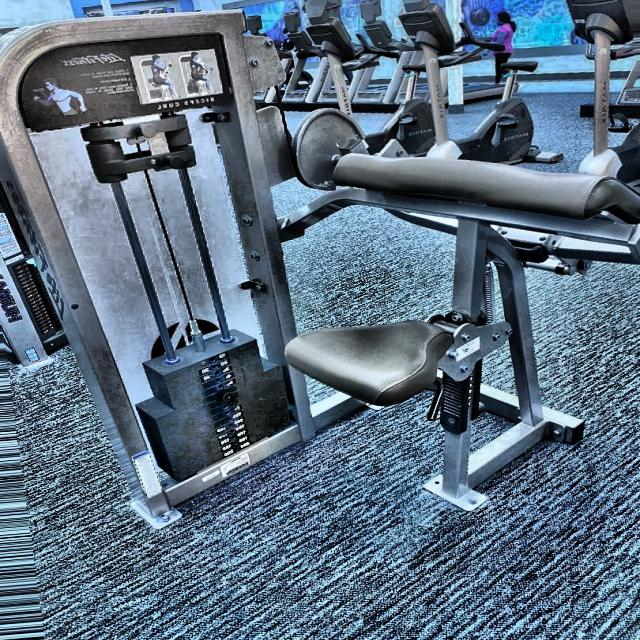bicep_curl_machine: (1, 11, 629, 499)
